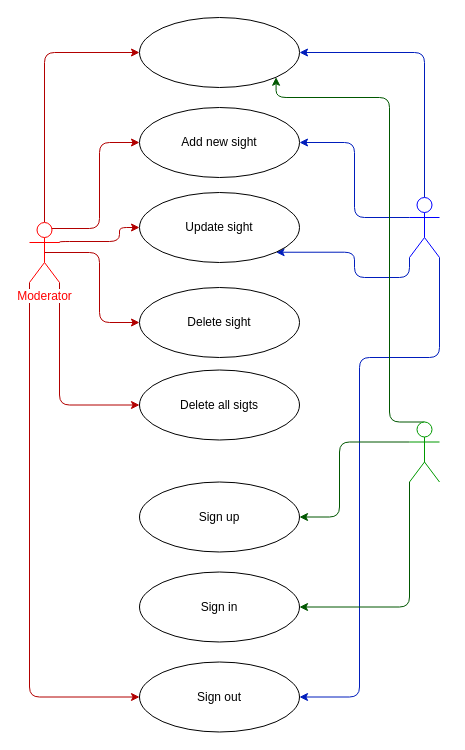
This 465x750 diagram has some shape labels left out. Each missing label, with the centre of its shape:
"Guest" belongs at pixel 424 451.
"Traveller" belongs at pixel 424 227.
"View all sights" belongs at pixel 219 52.
